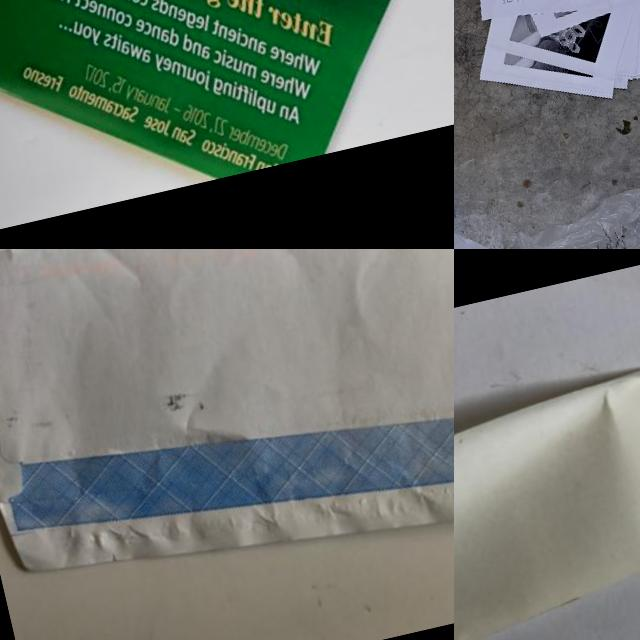papel: (0, 249, 454, 630), (0, 0, 454, 249), (454, 354, 640, 640), (454, 0, 640, 139)
sacola plástica: (501, 172, 640, 249)
